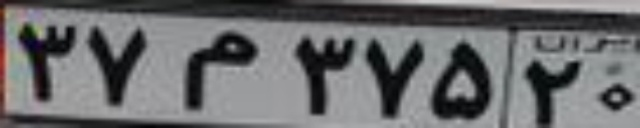0: (593, 81, 636, 112)
2: (523, 58, 582, 126)
3: (16, 20, 80, 104), (293, 35, 355, 116)
5: (430, 40, 492, 119)
7: (87, 23, 144, 107), (365, 35, 422, 118)
mim: (184, 31, 263, 109)
